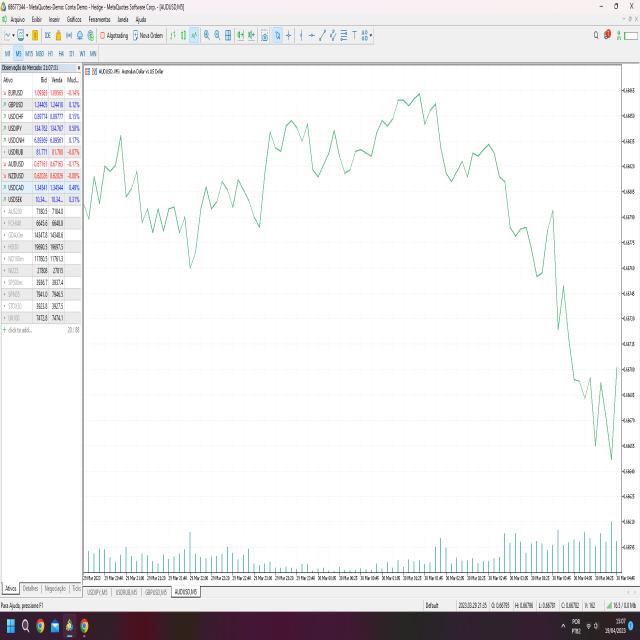fundo_duplo: (584, 356, 622, 478)
oco: (256, 96, 324, 242)
